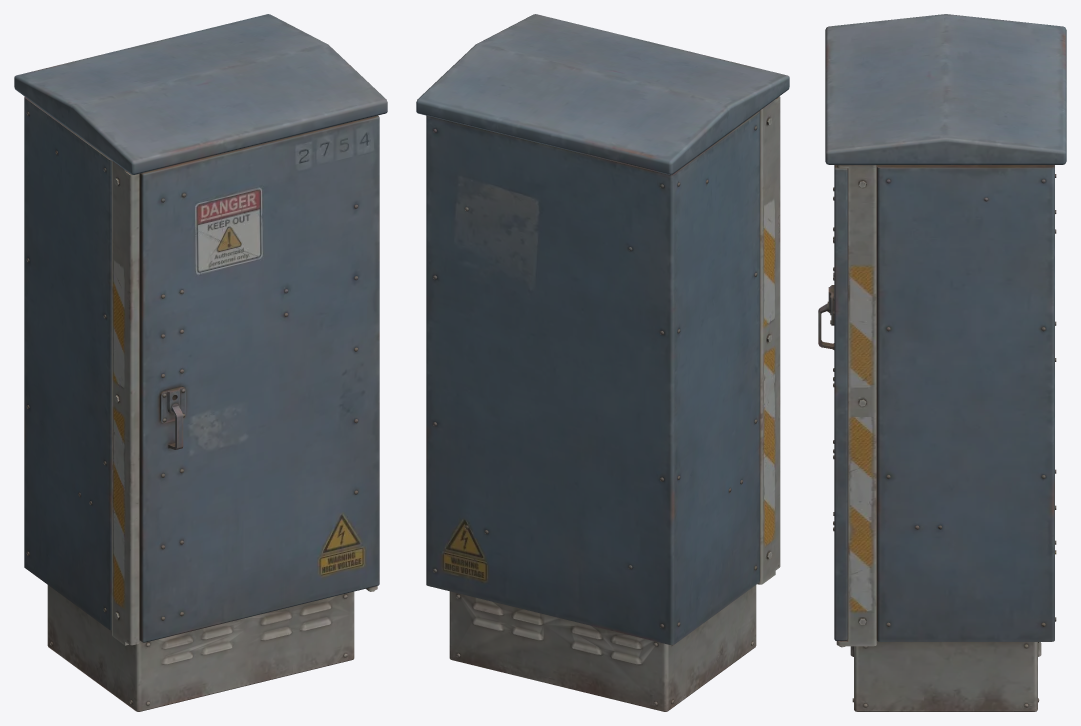
File: utility_box_01_1k.glb
The picture shows the model from 3 angles, left to right: view 1: azimuth 30°, elevation 25°; view 2: azimuth 150°, elevation 25°; view 3: azimuth 270°, elevation 25°; orthographic projection.
Parts seen in each view (by area): view 1: utility_box_01_box; view 2: utility_box_01_box; view 3: utility_box_01_box.
Part boxes in pixels (box(x1,y1,x2,y2)): utility_box_01_box: box(14, 14, 387, 711); utility_box_01_box: box(416, 14, 789, 711); utility_box_01_box: box(818, 14, 1066, 711).
Size of the model in its own units: 0.52 by 1.12 by 0.432.
1 material, 1 textured.
